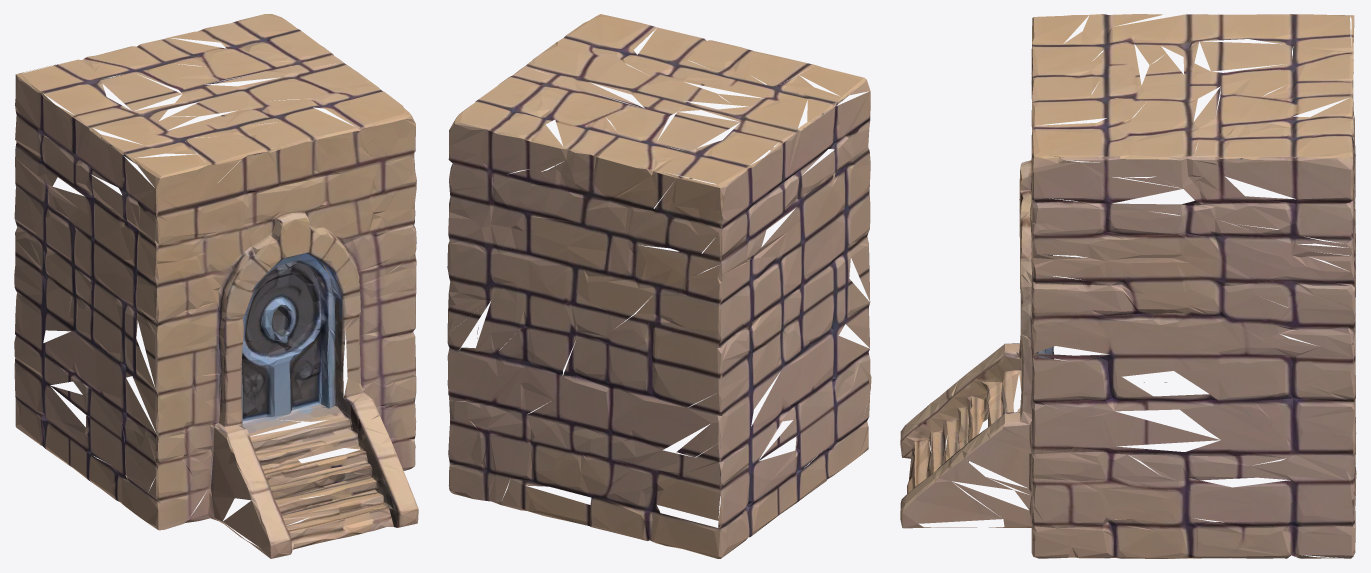
The model's file is tower_door.glb.
3 renders of one model, left to right at view 1: azimuth 30°, elevation 25°; view 2: azimuth 150°, elevation 25°; view 3: azimuth 270°, elevation 25°, orthographic. The views are drawn at different scales.
Parts seen in each view (by area): view 1: geometry_0; view 2: geometry_0; view 3: geometry_0.
Boxes of the visible parts, x1,y1,x2,y2 form: geometry_0: (14,14,418,558); geometry_0: (447,14,871,558); geometry_0: (900,14,1356,558).
Size of the model in its own units: 1.2 by 1.56 by 1.6.
Materials: 1 (1 with a texture image).
